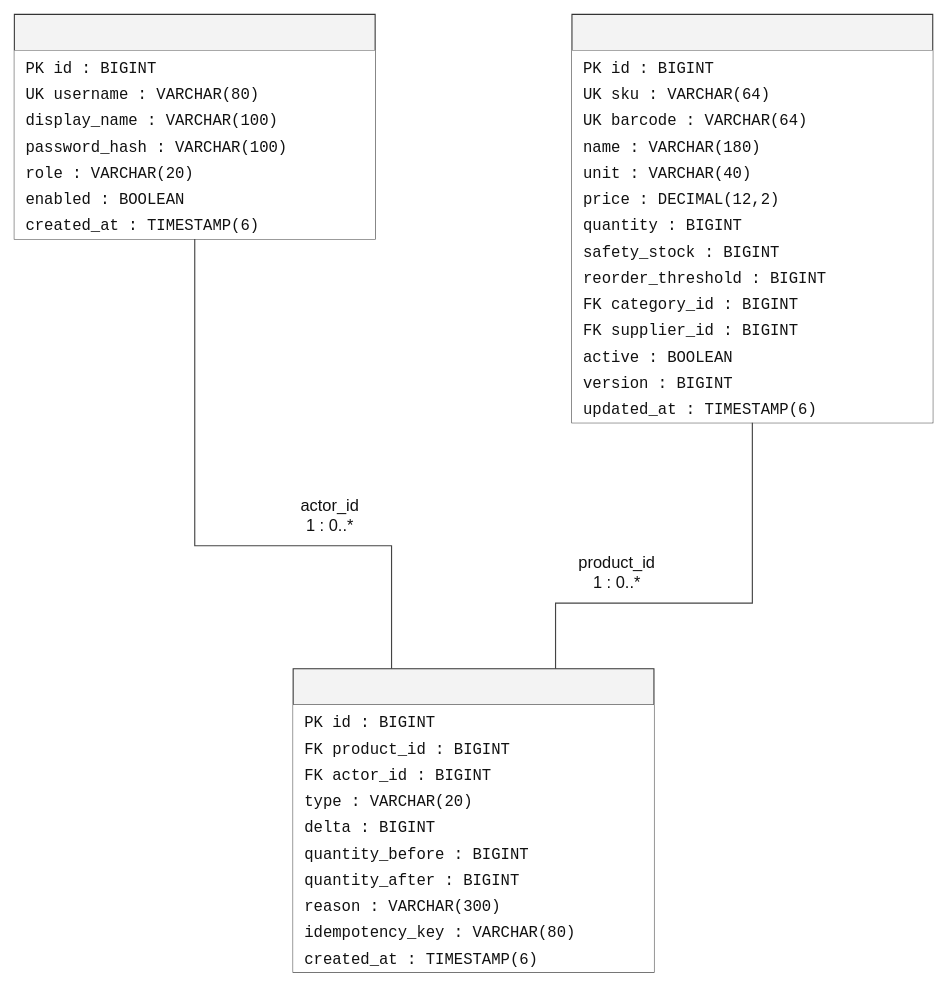
The diagram is 948 pixels wide and 987 high, and some of its shapes have lost their labels. Each missing label, with the box of its shape:
inventory_transactions: (292, 668, 654, 972)
products: (571, 13, 933, 423)
users: (13, 13, 375, 239)
